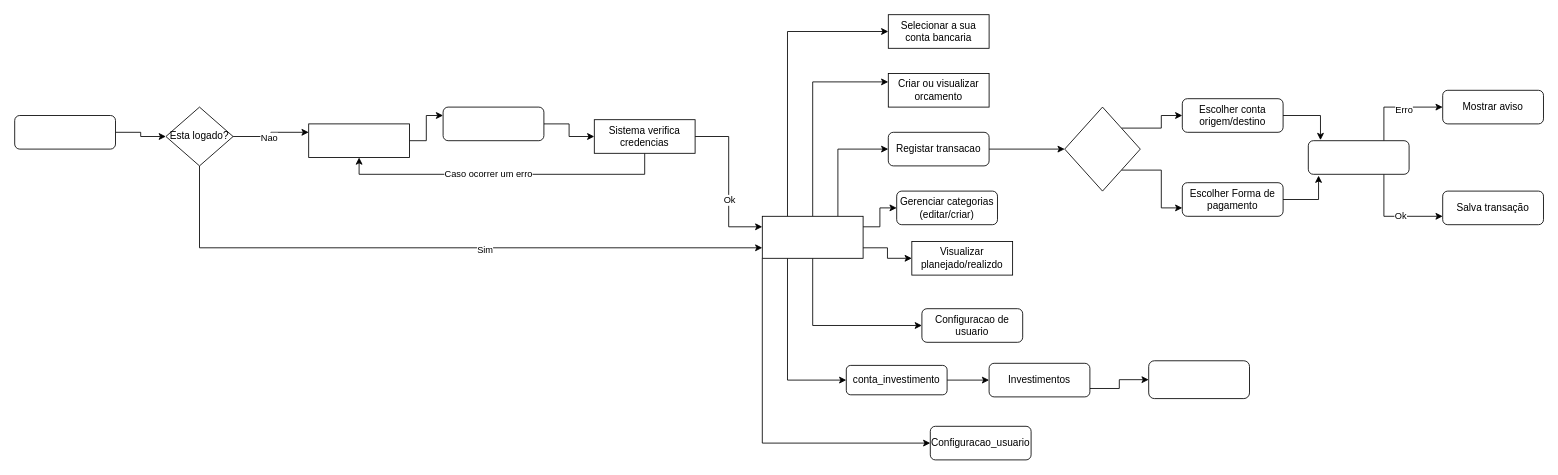
This 1558x475 diagram has some shape labels left out. Here are the shapes that lost their labels. From the top down, the centre of each, then its label:
the point at 65,132: Usuario acessa o site
the point at 359,140: pagina login/cadastro
the point at 493,123: Realizar login/cadastro
the point at 1102,148: Transacao
the point at 1358,157: Sistema validos campos/saldo
the point at 812,236: Tela principal
the point at 1199,379: Rendimento investimentos
